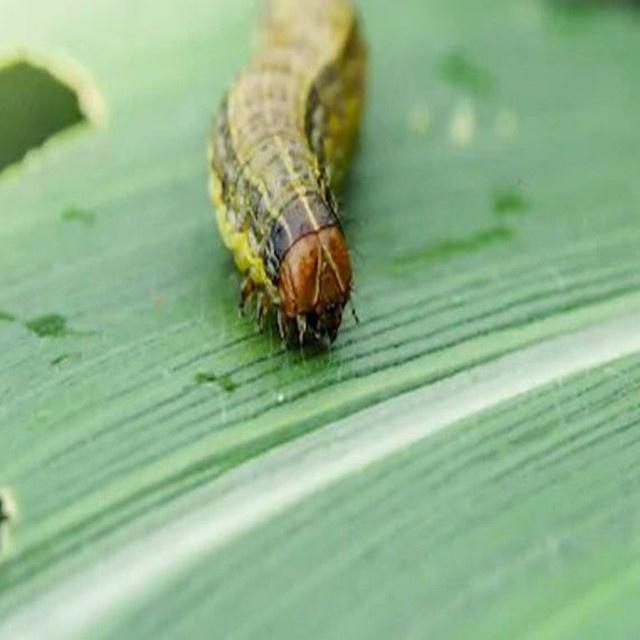worm: (205, 1, 369, 360)
